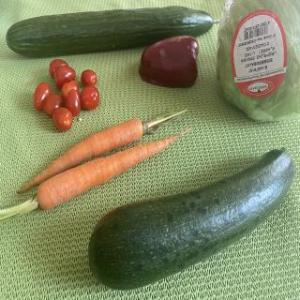cabbage: (216, 0, 300, 130)
carrot: (36, 126, 200, 212), (12, 116, 150, 196)
cucumber: (3, 4, 228, 56)
tomato: (52, 64, 80, 94), (31, 80, 53, 113), (77, 82, 102, 110), (50, 103, 74, 131), (64, 86, 80, 120), (80, 68, 99, 89), (47, 59, 69, 77)
zucchini: (86, 144, 300, 294)
